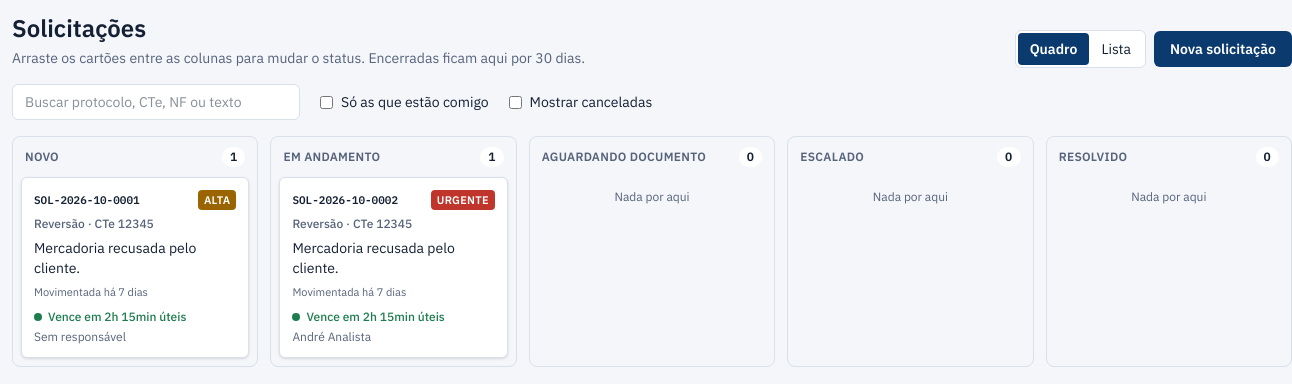
Quadro › "Só as que estão comigo" filtra pelo responsável
The width and height of the screenshot is (1292, 384).
Expected: the text "SOL-2026-10-0001" is shown, x1=34 y1=192 x2=140 y2=208
Click the checkbox labelled "Só as que estão comigo" at (326, 102), box x1=320 y1=96 x2=333 y2=108
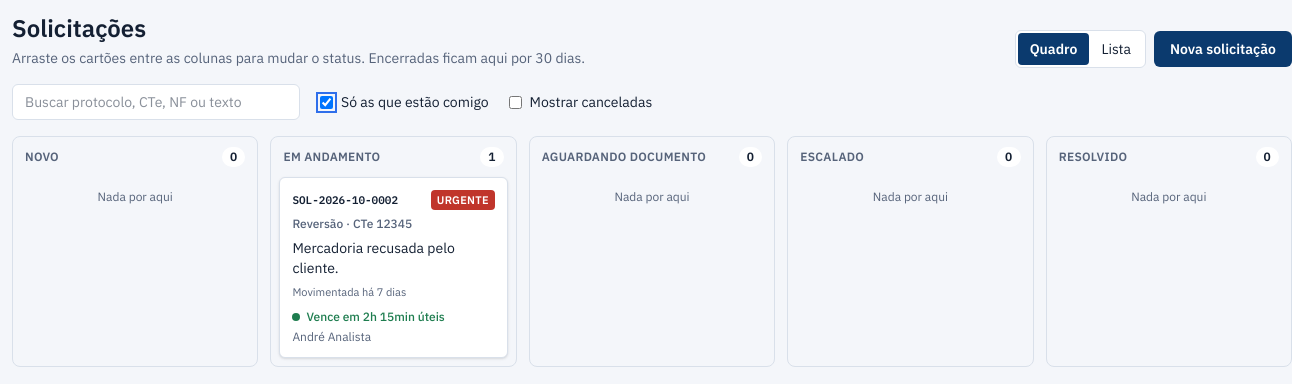
Expected: the text "SOL-2026-10-0002" is shown, x1=292 y1=192 x2=398 y2=208
Result: the link "SOL-2026-10-0001" is gone
